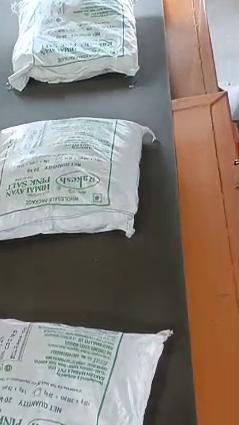box: (0, 117, 154, 241), (0, 317, 171, 425)
